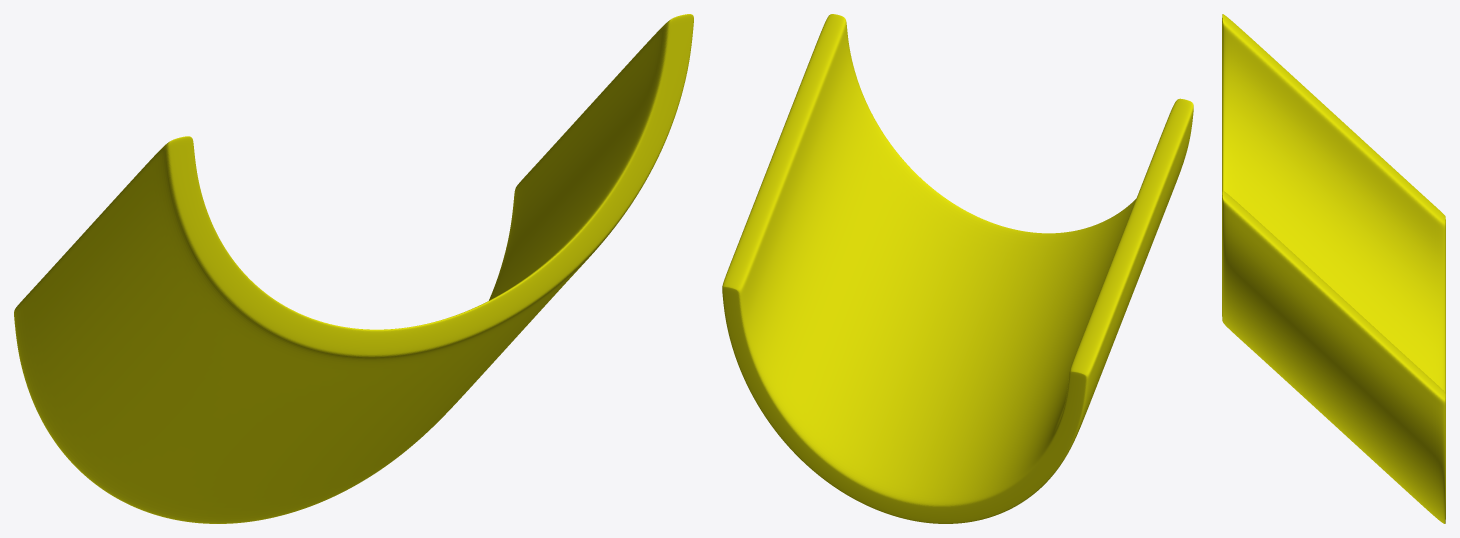
The model's file is pipe incline 1.fbx.
3 renders of one model, left to right at view 1: azimuth 30°, elevation 25°; view 2: azimuth 150°, elevation 25°; view 3: azimuth 270°, elevation 25°, orthographic. The views are drawn at different scales.
Parts seen in each view (by area): view 1: Cylinder; view 2: Cylinder; view 3: Cylinder.
Part boxes in pixels (box(x1,y1,x2,y2)): Cylinder: box(14, 14, 693, 523); Cylinder: box(722, 14, 1193, 523); Cylinder: box(1222, 14, 1445, 523).
Size of the model in its own units: 99.64 by 99.25 by 50.47.
